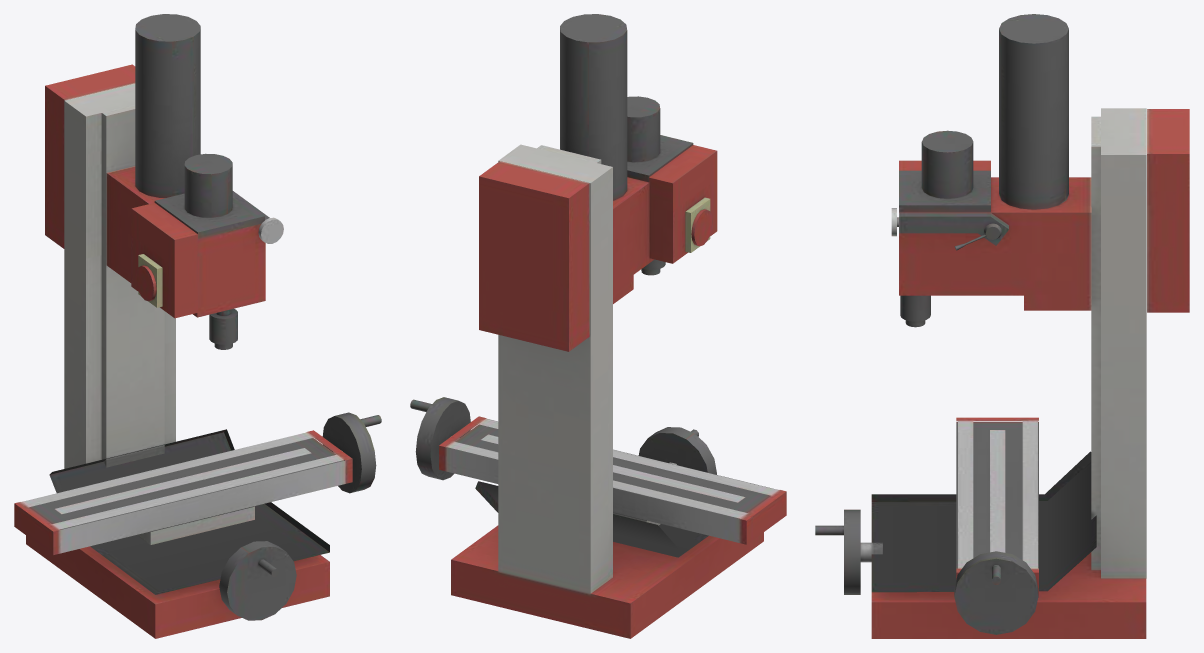
3 renders of one model, left to right at view 1: azimuth 30°, elevation 25°; view 2: azimuth 150°, elevation 25°; view 3: azimuth 270°, elevation 25°, orthographic. The views are drawn at different scales.
Visible parts, largest first — view 1: Zuan_Chuang_0; view 2: Zuan_Chuang_0; view 3: Zuan_Chuang_0.
Boxes of the visible parts, x1=… form: Zuan_Chuang_0: x1=14, y1=14, x2=381, y2=638; Zuan_Chuang_0: x1=410, y1=14, x2=786, y2=638; Zuan_Chuang_0: x1=815, y1=14, x2=1189, y2=638.
Size of the model in its own units: 0.9221 by 1.36 by 0.8173.
Materials: 1 (1 with a texture image).
